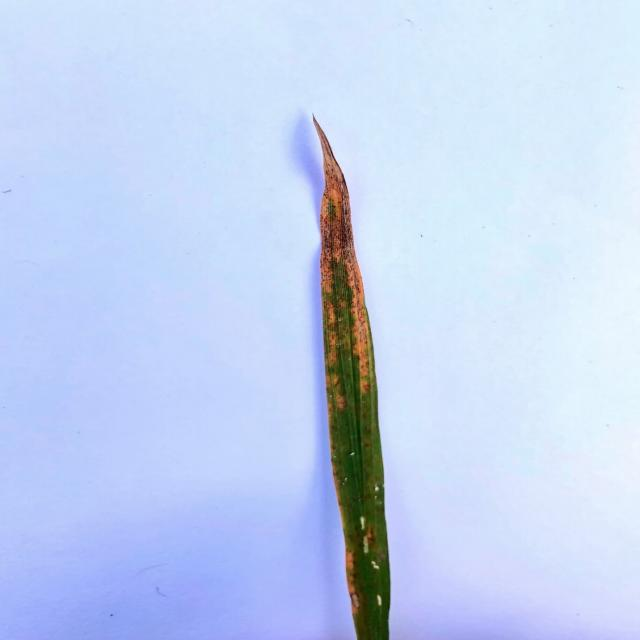tungro: (312, 110, 376, 422)
